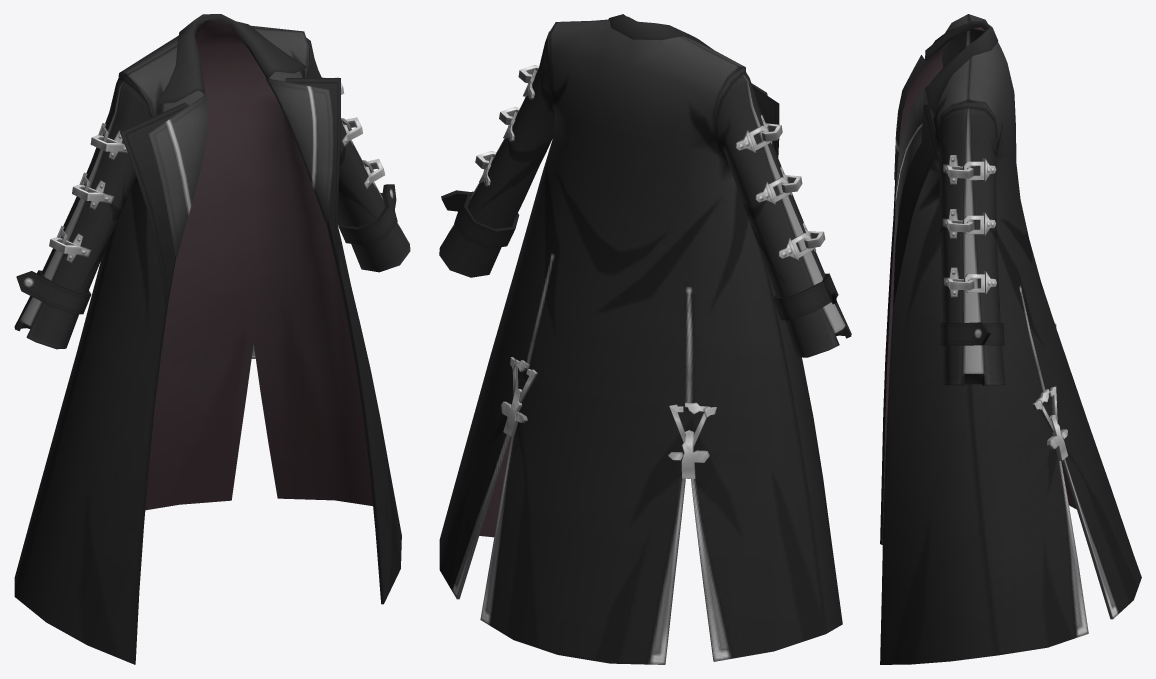
File: shalomCoat1.fbx
3 renders of one model, left to right at view 1: azimuth 30°, elevation 25°; view 2: azimuth 150°, elevation 25°; view 3: azimuth 270°, elevation 25°, orthographic. The views are drawn at different scales.
Visible parts, largest first — view 1: mesh_shalom_2.001; view 2: mesh_shalom_2.001; view 3: mesh_shalom_2.001.
Part boxes in pixels (bbox=[...]): mesh_shalom_2.001: bbox=[14, 14, 410, 664]; mesh_shalom_2.001: bbox=[439, 14, 851, 664]; mesh_shalom_2.001: bbox=[880, 14, 1141, 664].
Bounding box in the file's own units: 93.82 × 135 × 55.61.
Materials: 1 (1 with a texture image).
